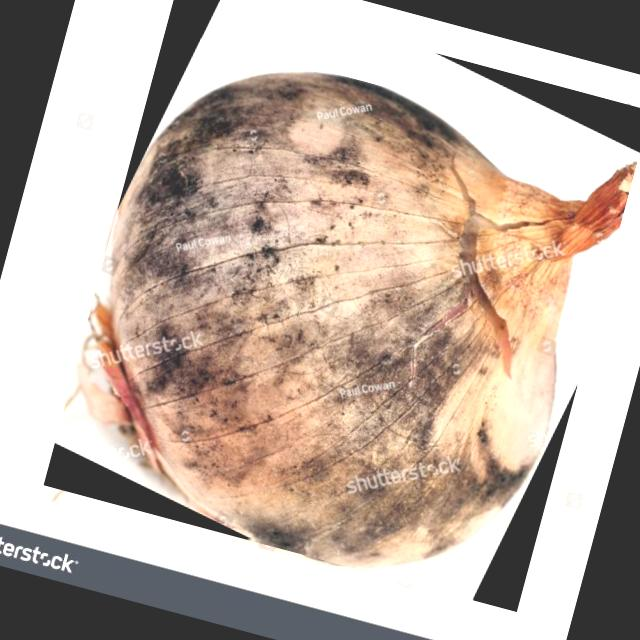mould: (79, 73, 637, 565)
